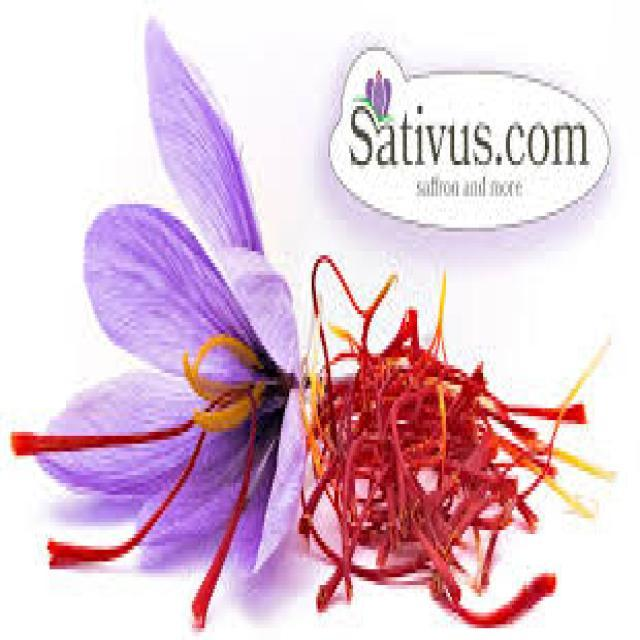Flower: (39, 12, 307, 587)
stigma: (42, 460, 195, 570), (188, 464, 257, 634), (8, 422, 190, 460)
